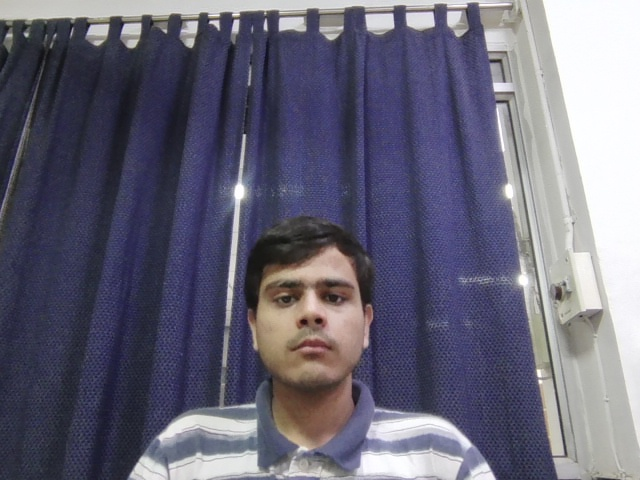face: (244, 222, 378, 385)
